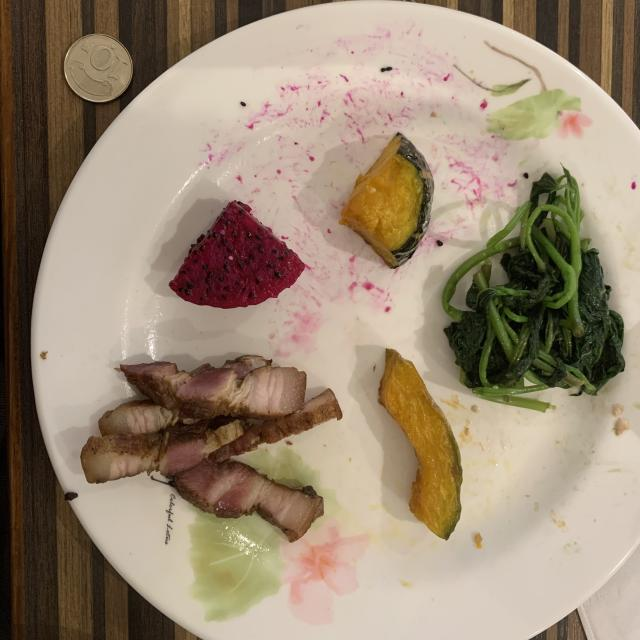coin: (64, 34, 132, 102)
grilled pork: (81, 355, 341, 541)
pumpkin: (379, 349, 462, 540), (340, 132, 434, 268)
sweet potato leaves: (442, 169, 625, 408)
